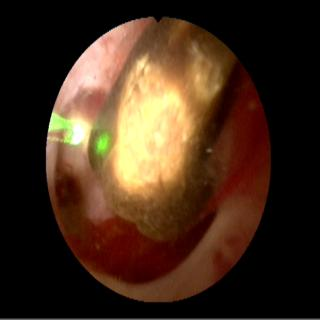laser: (50, 114, 84, 142), (96, 132, 110, 153)
stone: (88, 21, 237, 240)
tissue: (51, 77, 267, 296)
